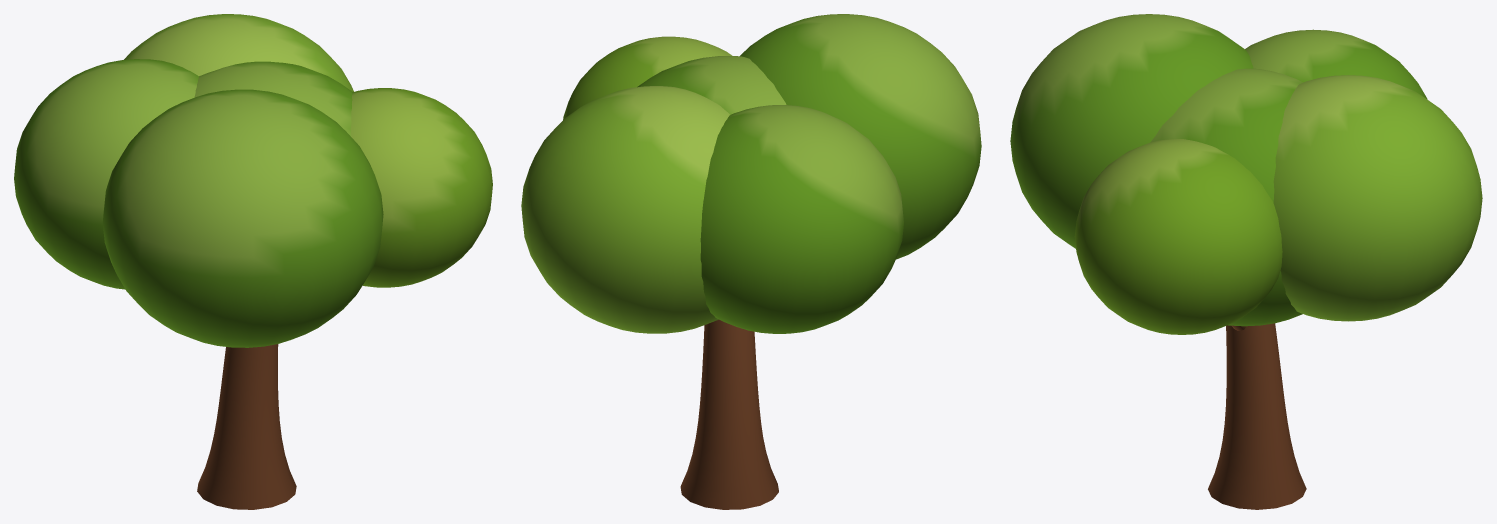
The model's file is round-tree.obj.
The picture shows the model from 3 angles, left to right: view 1: azimuth 30°, elevation 25°; view 2: azimuth 150°, elevation 25°; view 3: azimuth 270°, elevation 25°; orthographic projection.
Parts seen in each view (by area): view 1: tree; view 2: tree; view 3: tree.
Boxes of the visible parts, bbox=[...] form: tree: bbox=[14, 14, 492, 509]; tree: bbox=[521, 14, 981, 509]; tree: bbox=[1010, 14, 1482, 509].
Size of the model in its own units: 342 by 377 by 372.
